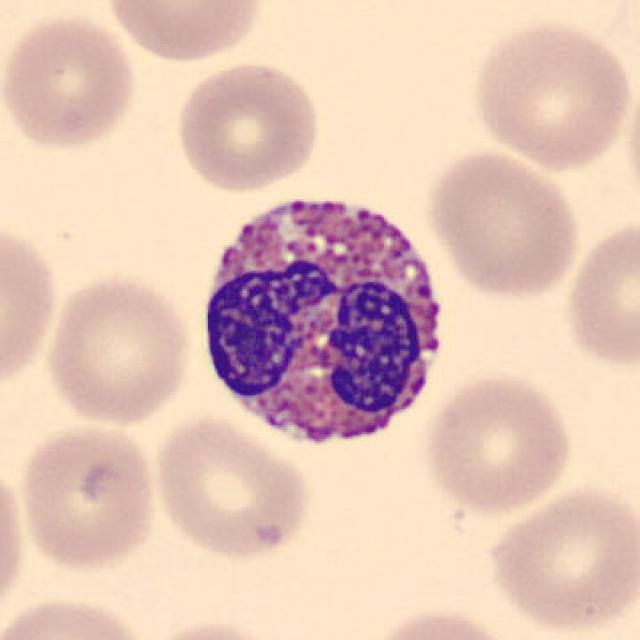Eosinophil: (187, 168, 464, 466)
RBC: (468, 14, 634, 173), (421, 146, 583, 302), (148, 413, 314, 564), (41, 270, 195, 428), (482, 482, 638, 636), (420, 368, 578, 516), (14, 420, 162, 573), (170, 58, 324, 194), (0, 8, 140, 155), (560, 213, 638, 372), (0, 217, 62, 397), (100, 0, 266, 65), (0, 590, 154, 640), (364, 604, 520, 640), (0, 455, 30, 628), (137, 617, 290, 640)
